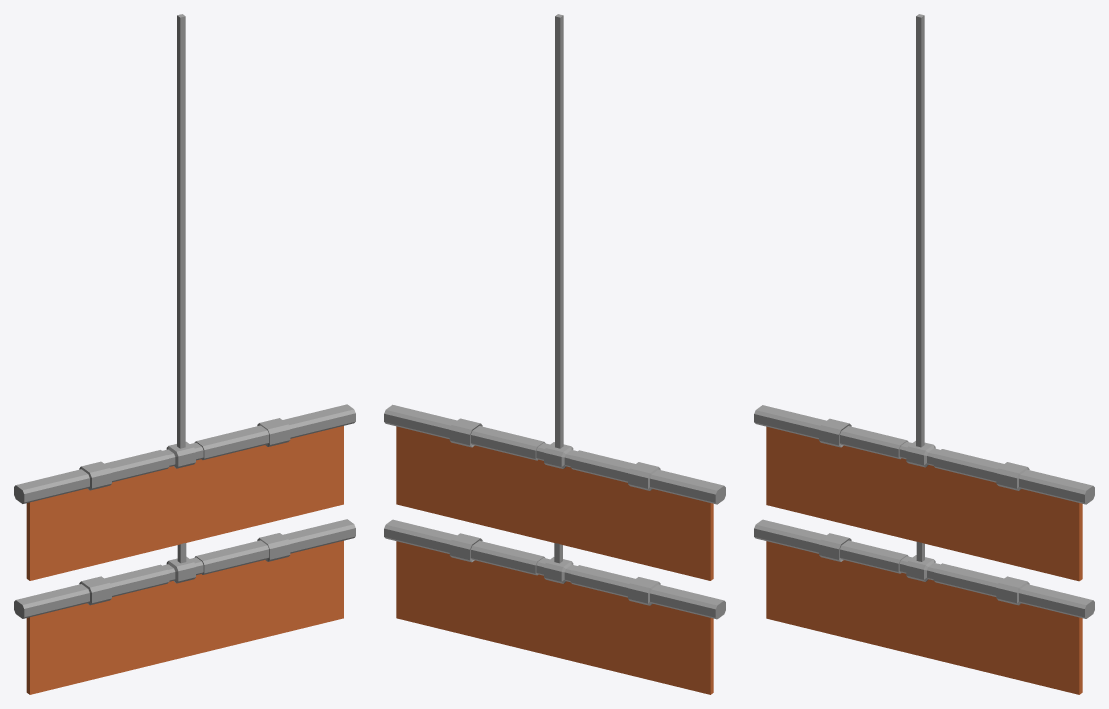
The model's file is buttons.fbx.
3 renders of one model, left to right at view 1: azimuth 30°, elevation 25°; view 2: azimuth 150°, elevation 25°; view 3: azimuth 330°, elevation 25°, orthographic.
Visible parts, largest first — view 1: screen1, screen2, pole2, pole1, wire; view 2: screen1, screen2, pole1, pole2, wire; view 3: screen1, screen2, pole2, pole1, wire.
Part boxes in pixels (x1=…): screen1: x1=26, y1=426, x2=343, y2=580; screen2: x1=26, y1=540, x2=343, y2=694; pole2: x1=14, y1=519, x2=355, y2=618; pole1: x1=14, y1=404, x2=355, y2=503; wire: x1=177, y1=14, x2=186, y2=563; screen1: x1=396, y1=426, x2=713, y2=580; screen2: x1=396, y1=541, x2=713, y2=694; pole1: x1=384, y1=404, x2=725, y2=504; pole2: x1=384, y1=519, x2=725, y2=619; wire: x1=554, y1=14, x2=563, y2=563; screen1: x1=766, y1=426, x2=1082, y2=581; screen2: x1=766, y1=541, x2=1082, y2=694; pole2: x1=754, y1=519, x2=1094, y2=618; pole1: x1=754, y1=405, x2=1094, y2=504; wire: x1=916, y1=14, x2=924, y2=561.
Bounding box in the file's own units: 351 × 648 × 23.28.
